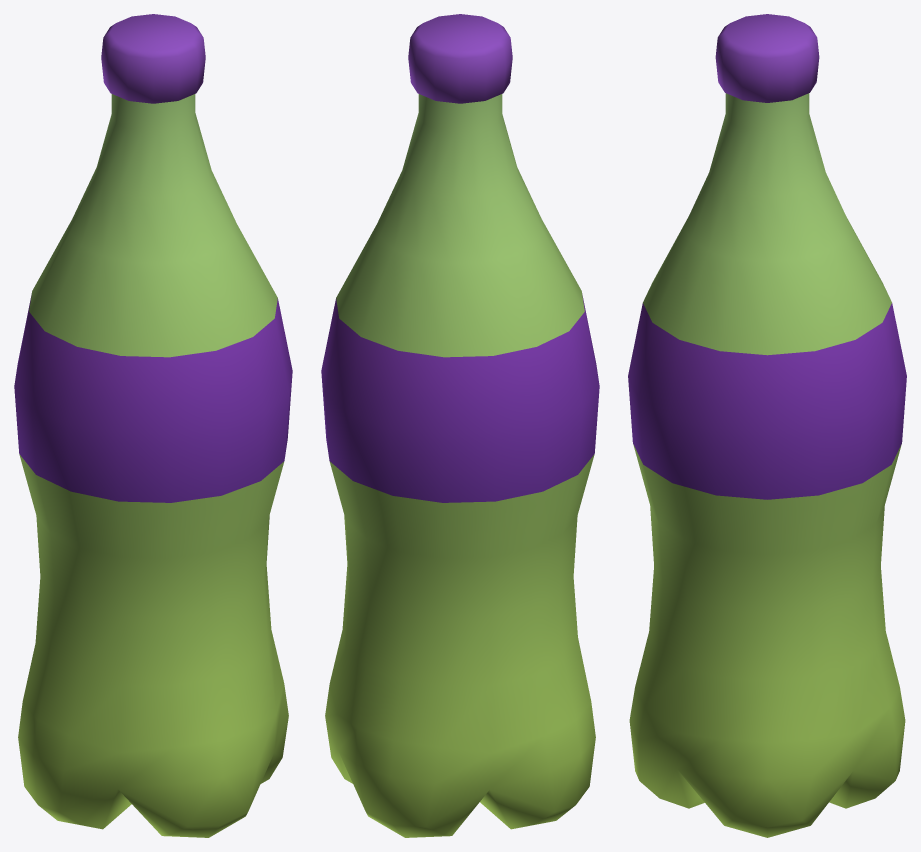
File: bottle_005.fbx
3 renders of one model, left to right at view 1: azimuth 30°, elevation 25°; view 2: azimuth 150°, elevation 25°; view 3: azimuth 270°, elevation 25°, orthographic.
Visible parts, largest first — view 1: bottle_005; view 2: bottle_005; view 3: bottle_005.
Boxes of the visible parts, x1,y1,x2,y2 form: bottle_005: (14,14,292,837); bottle_005: (321,14,599,837); bottle_005: (628,14,906,837).
Bounding box in the file's own units: 8.49 × 8.49 × 25.88.
